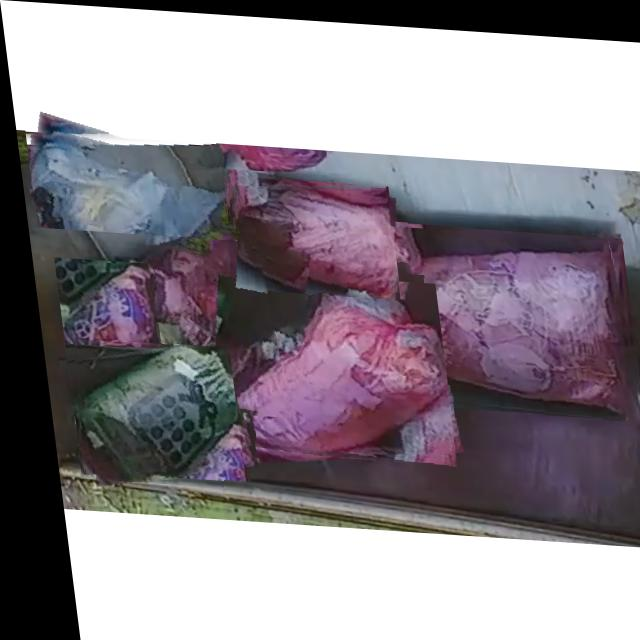general_trashbag: (66, 342, 225, 481)
other_trashbag: (370, 233, 630, 414), (234, 274, 437, 450), (142, 226, 278, 413), (26, 130, 218, 234), (227, 179, 390, 293), (54, 262, 146, 387), (216, 143, 323, 168)
